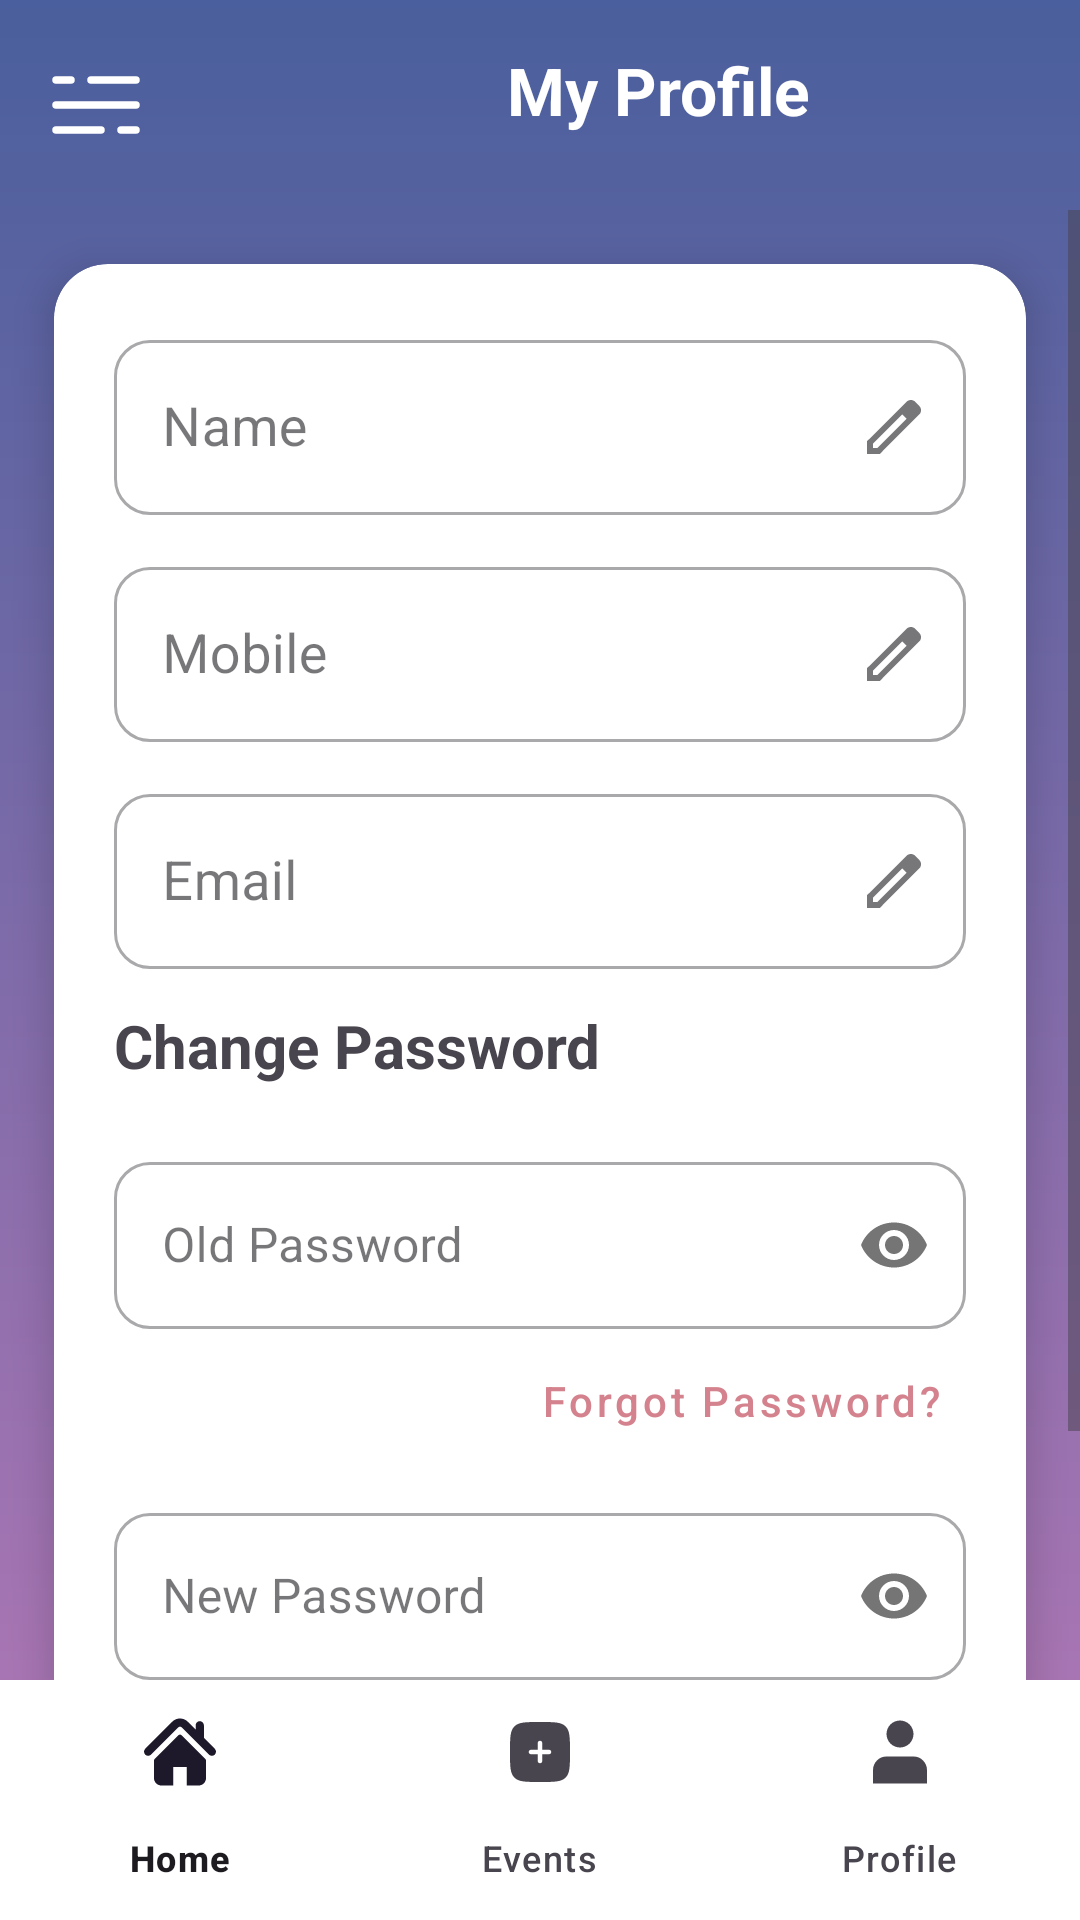

Icon bounding boxes for this 1080*1920 phone screenshot, format (x1, y1, x2, y2):
menu: (52, 76, 140, 134)
